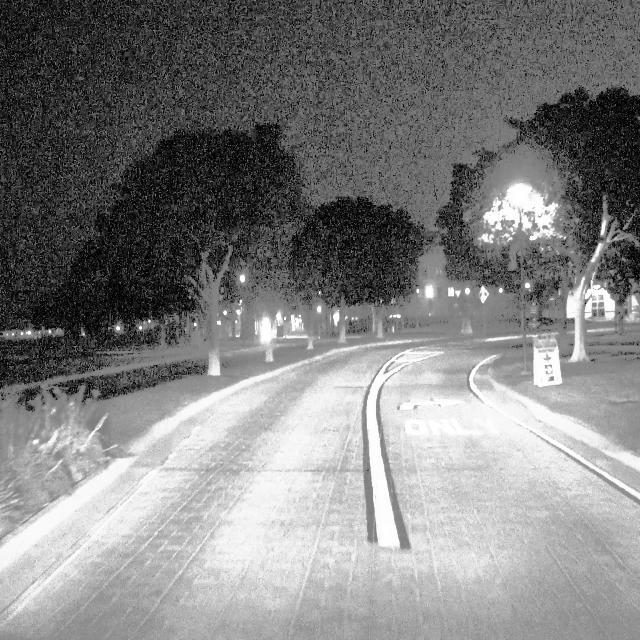Sign: (536, 336, 562, 386)
